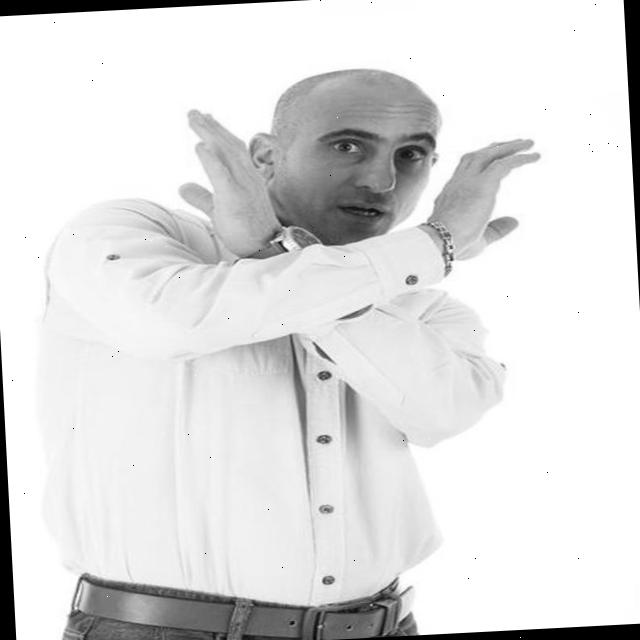Fear: (292, 78, 443, 240)
